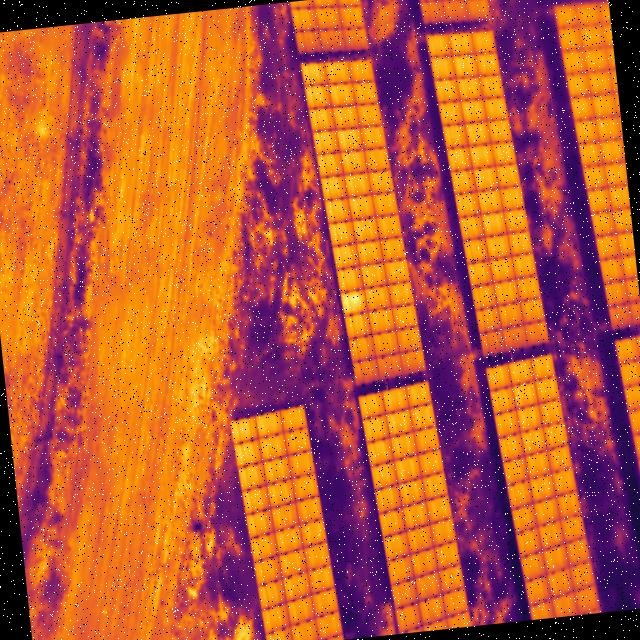Hotspot: (341, 288, 364, 313)
